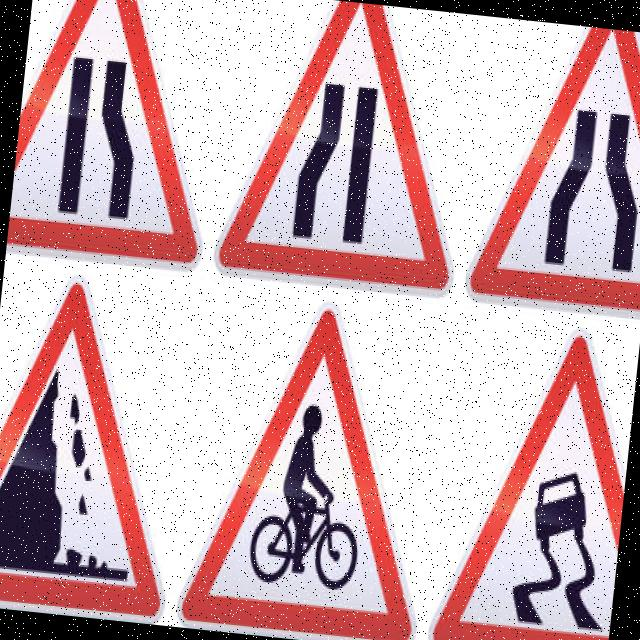road_slippery: (427, 317, 640, 640)
